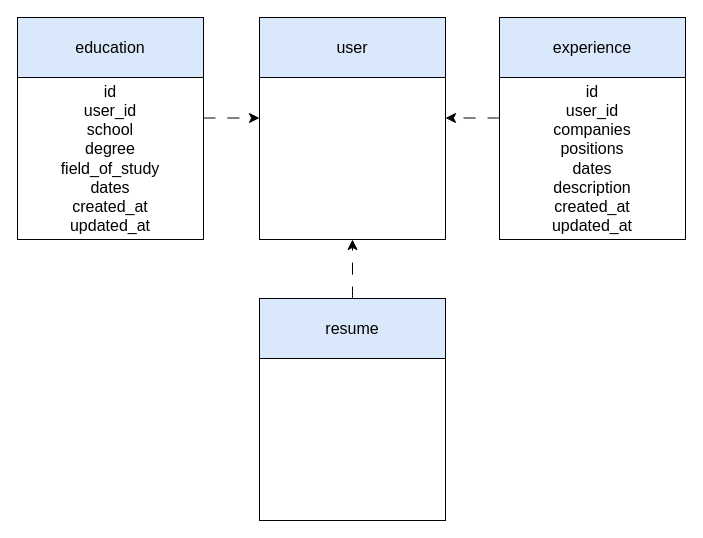
Image size: 703x538. Some labels were removed from this diagram. The centre of each missing label's shape, as x and y in pixels:
"id full_name email phone_number skills created_at updated_at" belongs at (352,158).
"id user_id summary job_position employment created_at updated_at" belongs at (352,439).
